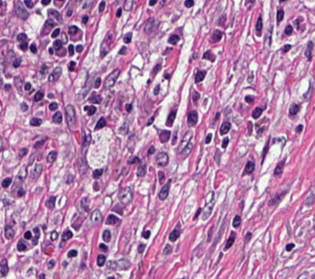nucleus: (202, 192, 214, 219), (178, 131, 192, 152), (104, 69, 119, 88), (100, 33, 112, 56), (118, 187, 132, 204), (158, 180, 170, 199), (66, 104, 75, 127), (48, 66, 61, 81), (269, 192, 284, 205), (224, 232, 234, 249), (156, 152, 168, 166), (187, 111, 197, 126), (91, 209, 101, 224), (166, 110, 175, 126), (116, 258, 129, 269), (159, 130, 170, 142), (169, 228, 179, 241), (305, 41, 312, 59), (274, 161, 283, 175), (80, 197, 89, 211), (95, 117, 105, 129), (220, 122, 230, 134), (182, 143, 191, 156), (33, 164, 42, 177), (105, 215, 118, 224), (203, 51, 214, 61), (195, 71, 205, 82), (289, 104, 299, 115), (252, 107, 262, 118), (245, 161, 254, 173), (62, 230, 72, 240), (212, 30, 221, 41), (52, 112, 61, 123), (47, 151, 56, 162), (46, 196, 55, 207), (89, 95, 101, 103), (305, 193, 313, 205), (33, 228, 39, 244), (168, 35, 178, 44), (34, 91, 43, 101), (39, 65, 47, 76), (137, 165, 145, 176), (102, 230, 110, 241), (97, 255, 105, 266), (127, 156, 139, 163), (233, 215, 240, 227), (93, 169, 102, 178), (113, 205, 122, 214), (107, 260, 116, 269), (119, 123, 127, 133), (34, 140, 44, 148), (163, 244, 171, 254), (192, 90, 199, 101), (30, 118, 41, 125), (51, 28, 59, 37), (152, 64, 160, 73), (158, 171, 164, 183), (67, 249, 76, 257), (263, 143, 268, 157), (53, 40, 61, 48), (49, 102, 57, 110), (124, 33, 131, 42), (68, 61, 75, 70), (88, 106, 95, 115), (146, 116, 153, 125), (50, 231, 57, 240), (194, 208, 200, 218), (283, 44, 290, 52), (245, 95, 253, 102), (208, 226, 212, 240), (142, 230, 149, 238), (99, 243, 107, 250), (286, 243, 294, 250), (138, 244, 145, 252), (94, 78, 100, 87), (205, 134, 211, 143), (222, 138, 228, 147), (68, 45, 73, 55), (30, 44, 36, 52), (148, 146, 154, 154), (48, 260, 54, 268), (154, 85, 159, 94), (172, 132, 176, 143), (296, 125, 302, 132), (93, 182, 98, 190), (246, 232, 251, 240), (76, 45, 82, 51), (119, 47, 125, 53), (126, 104, 131, 111), (39, 274, 44, 278), (49, 48, 52, 53), (48, 94, 53, 97), (63, 262, 66, 266)
